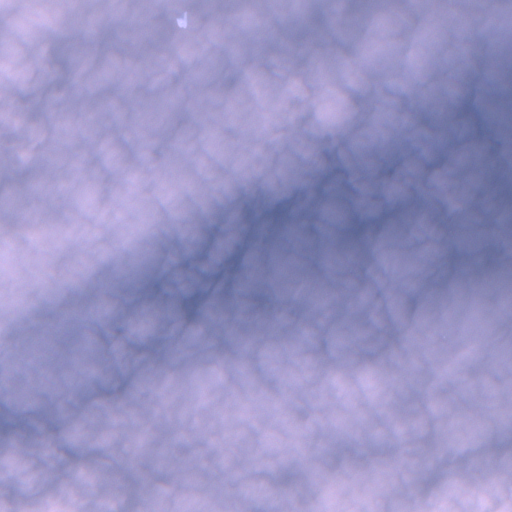Iceberg: (177, 12, 186, 27)
